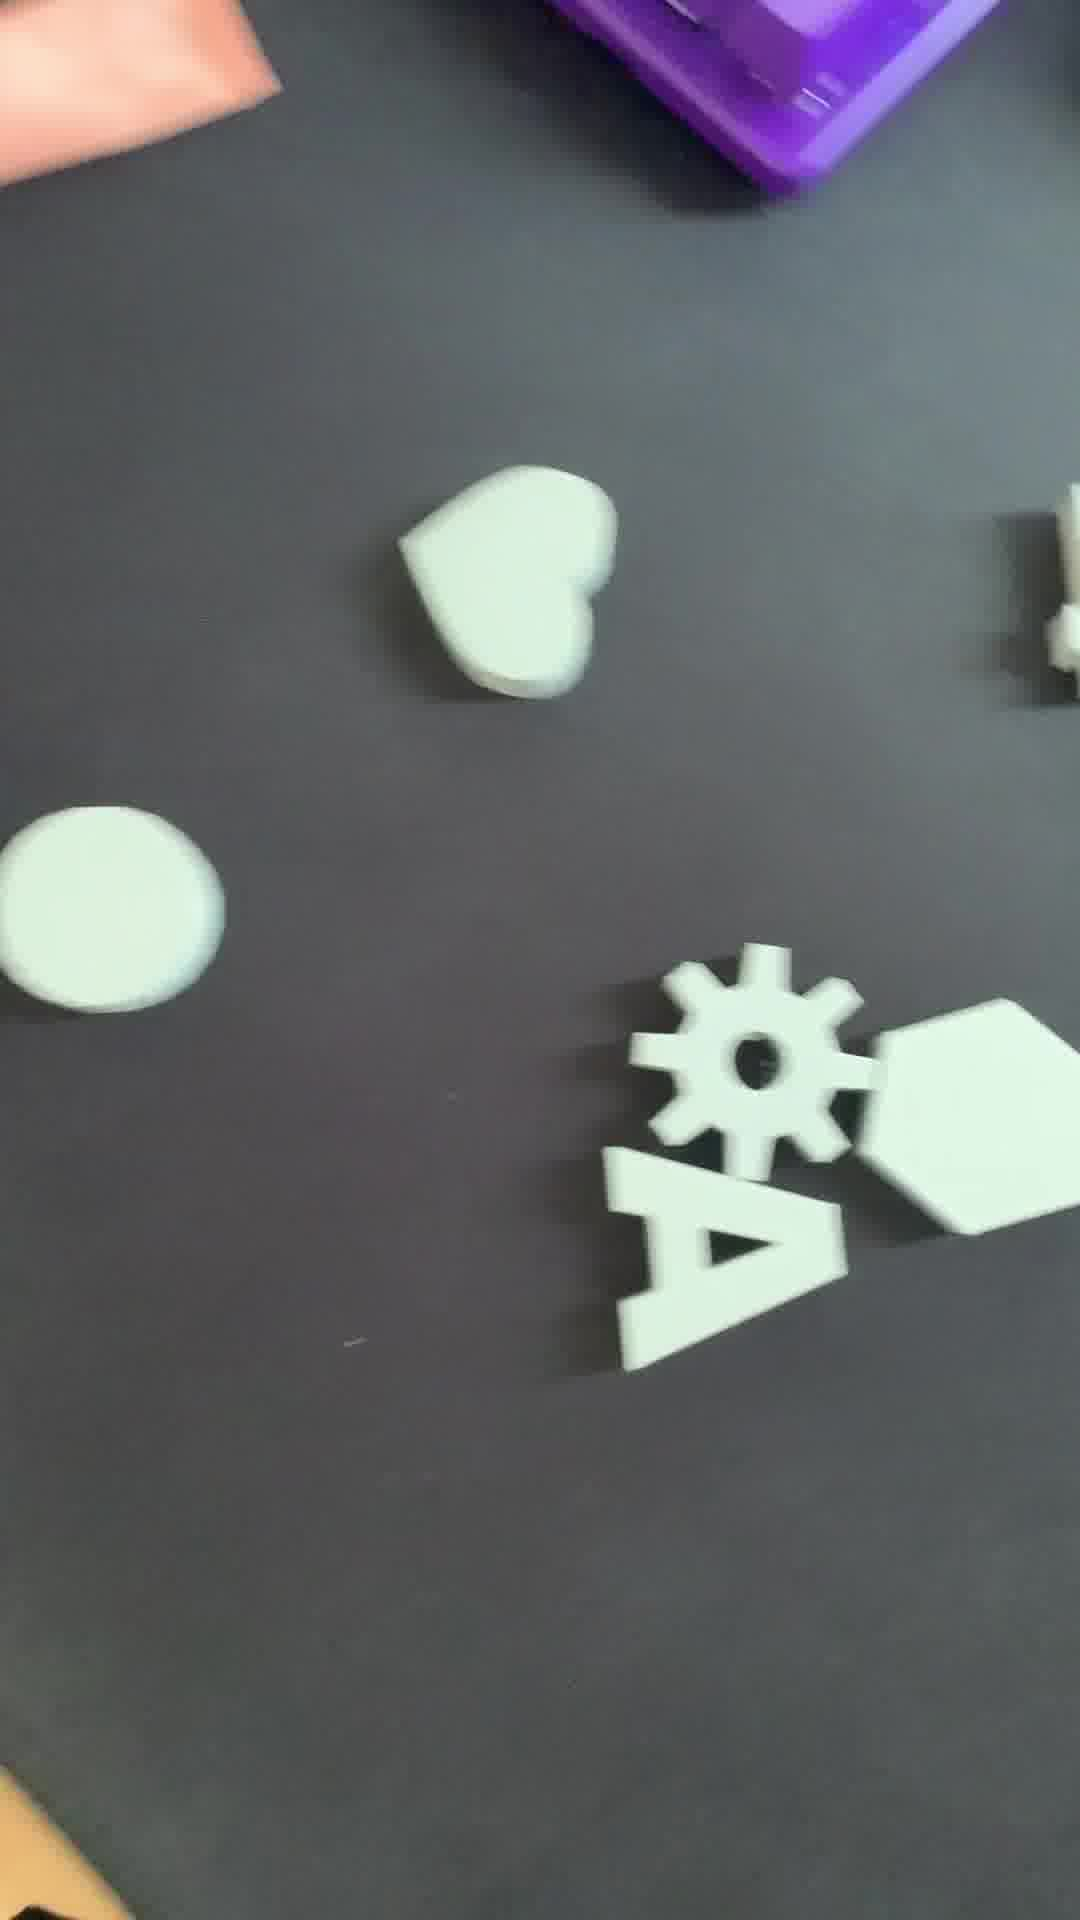Gray A-letter: (580, 1120, 862, 1375)
Gray circle: (1, 806, 225, 1015)
Gray gear: (633, 940, 878, 1199)
Gray heart: (402, 463, 615, 703)
Gray hexagon: (851, 997, 1080, 1226)
